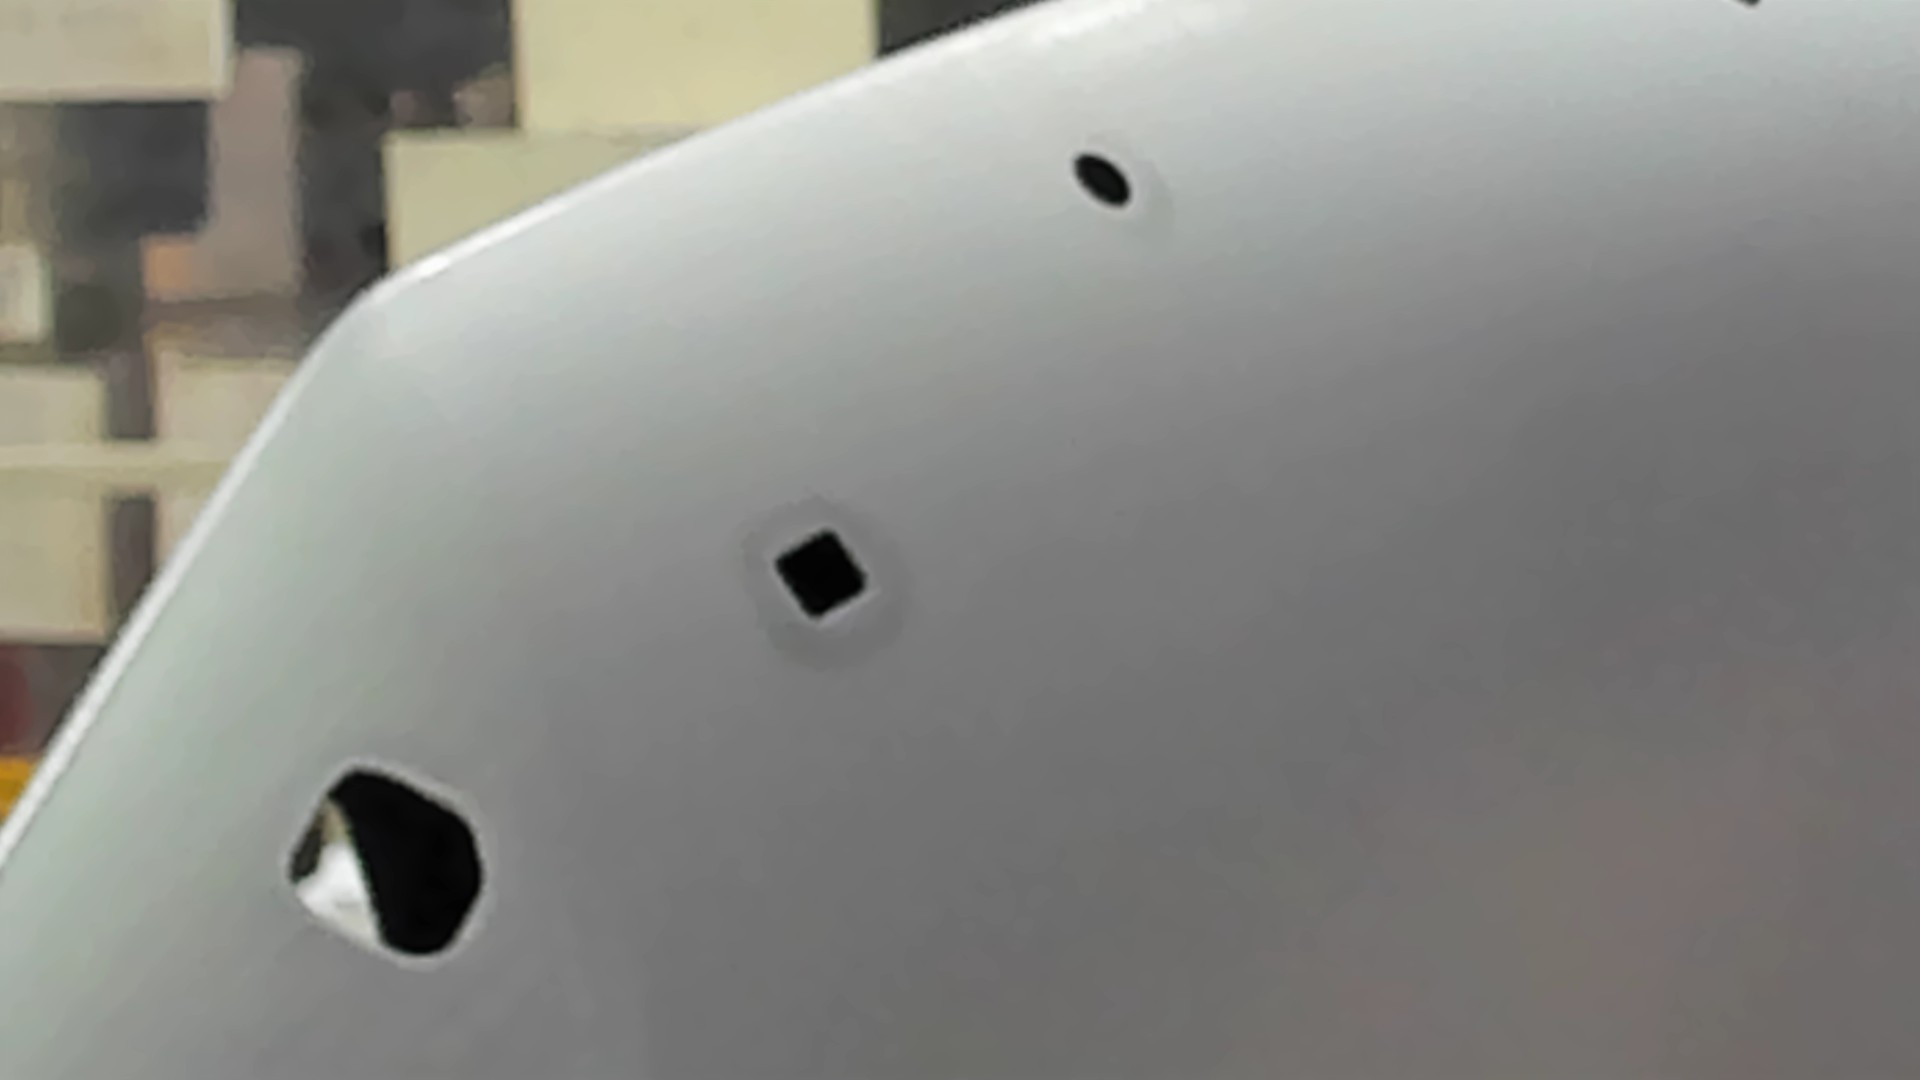capo: (884, 219, 1920, 1080)
chico: (1068, 145, 1137, 211)
grande: (276, 754, 497, 975)
mediano: (767, 518, 880, 628)
